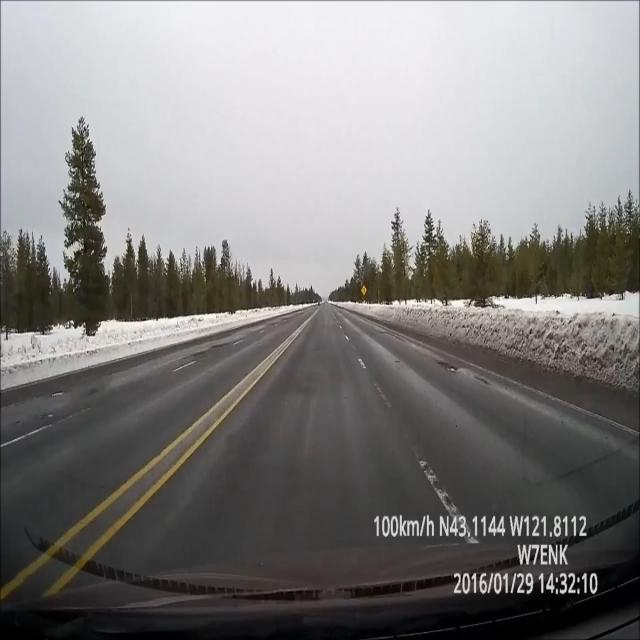pothole: (438, 355, 488, 391)
